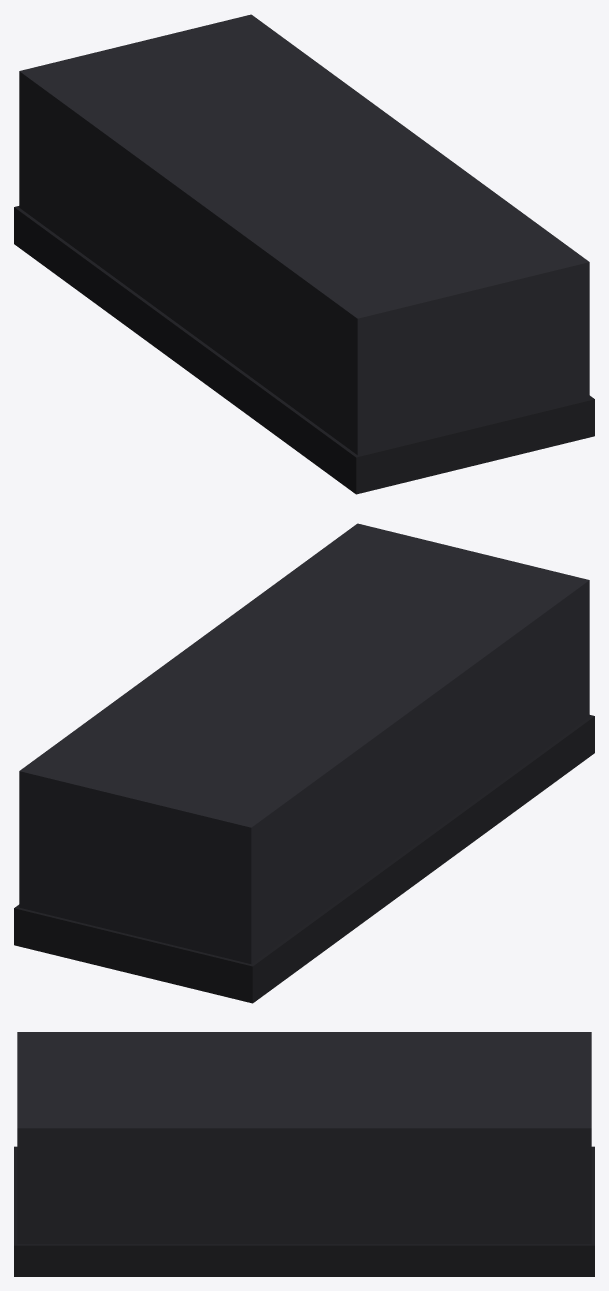
File: Pie.obj
The picture shows the model from 3 angles, top to bottom: view 1: azimuth 30°, elevation 25°; view 2: azimuth 150°, elevation 25°; view 3: azimuth 270°, elevation 25°; orthographic projection. The views are drawn at different scales.
Visible parts, largest first — view 1: Pie; view 2: Pie; view 3: Pie.
Boxes of the visible parts, <box> form: Pie: <box>14,14,594,494</box>; Pie: <box>14,523,594,1003</box>; Pie: <box>14,1032,594,1276</box>.
Bounding box in the file's own units: 0.108 × 0.075 × 0.268.
1 material, 1 textured.
